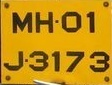character: (60, 10, 81, 33), (11, 10, 31, 34), (33, 10, 53, 34), (89, 50, 109, 72), (65, 49, 84, 72), (3, 50, 23, 71), (28, 49, 47, 71), (85, 10, 95, 33), (51, 49, 60, 72)
